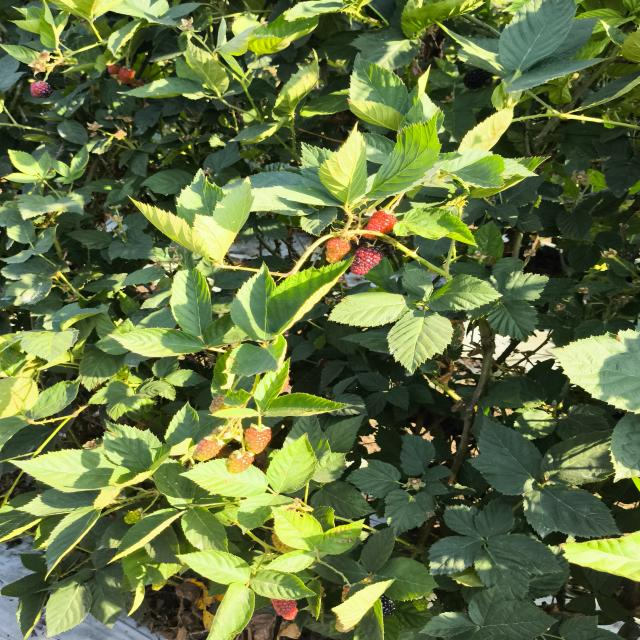marron: (351, 247, 383, 275)
naranja: (244, 426, 271, 454), (365, 210, 396, 234), (193, 438, 224, 461), (326, 238, 351, 264), (226, 451, 254, 473), (271, 598, 297, 620), (364, 234, 375, 239)
